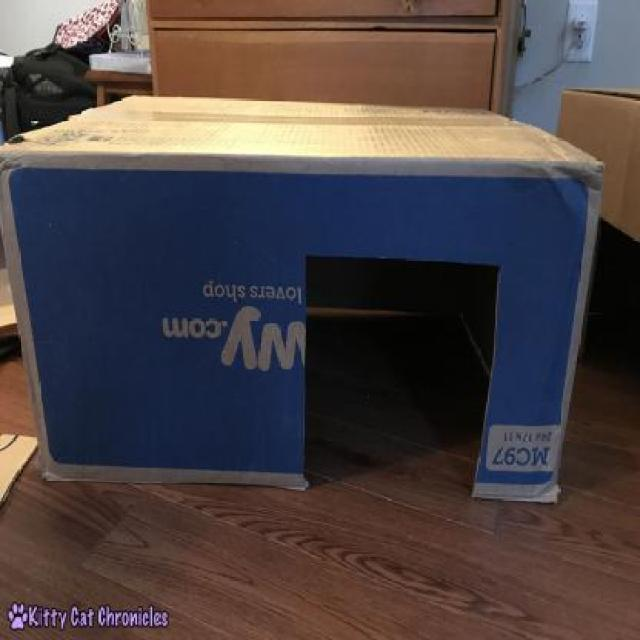box: (0, 99, 609, 512)
